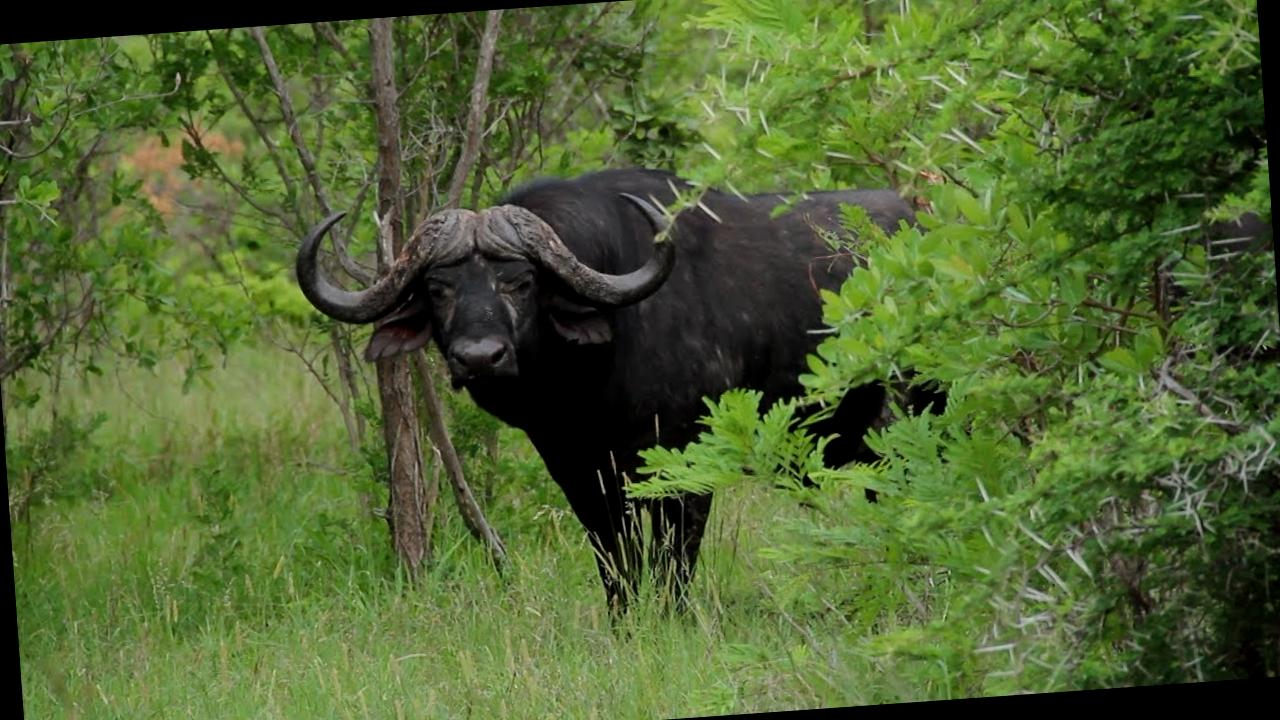Buffalo: (230, 61, 954, 682)
